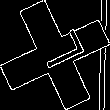L_SW: (26, 30, 84, 80)
